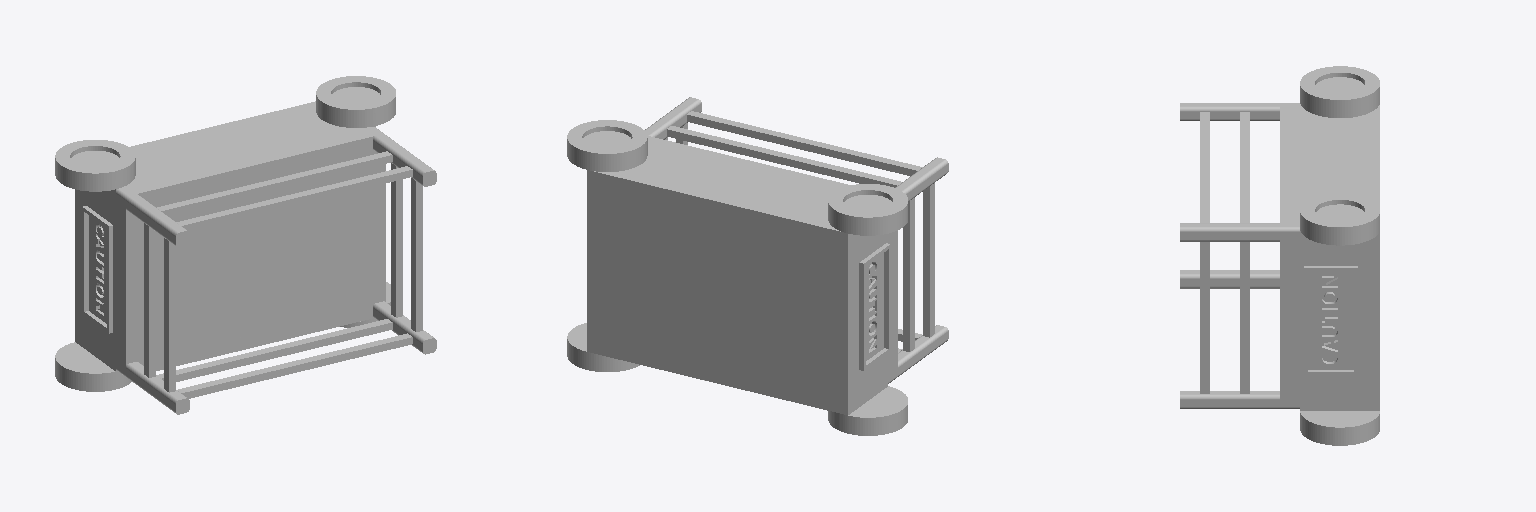
File: WideBase.obj
3 views of the same model, side by side, from view 1: azimuth 30°, elevation 25°; view 2: azimuth 150°, elevation 25°; view 3: azimuth 270°, elevation 25° (orthographic).
Parts seen in each view (by area): view 1: WideBase; view 2: WideBase; view 3: WideBase.
Part boxes in pixels (bbox=[...]): WideBase: bbox=[55, 76, 436, 414]; WideBase: bbox=[567, 97, 948, 435]; WideBase: bbox=[1180, 66, 1379, 445].
Bounding box in the file's own units: 1.9 × 1.2 × 1.